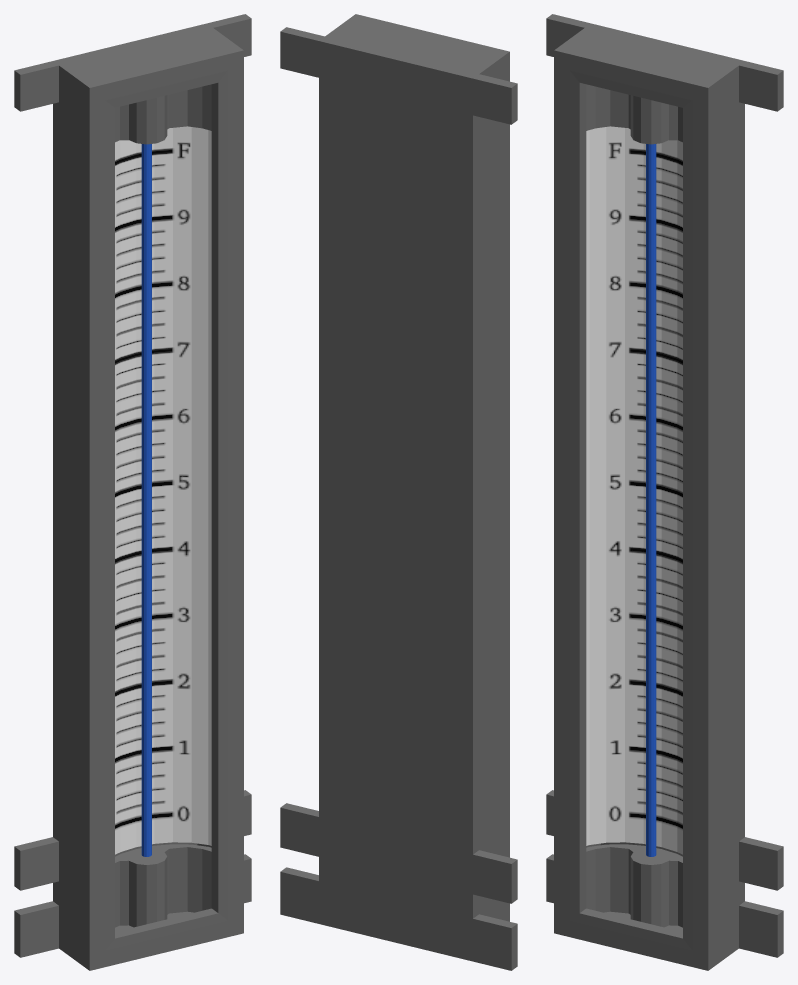
Rendered from column_gauge.glb.
3 views of the same model, side by side, from view 1: azimuth 30°, elevation 25°; view 2: azimuth 150°, elevation 25°; view 3: azimuth 330°, elevation 25° (orthographic).
Visible parts, largest first — view 1: Cube, Scale, Liquid, Circle.001, Circle.002; view 2: Cube; view 3: Cube, Scale, Liquid, Circle.001, Circle.002.
Boxes of the visible parts, x1,y1,x2,y2 form: Cube: [14, 14, 251, 970]; Scale: [115, 126, 211, 854]; Liquid: [141, 144, 151, 856]; Circle.001: [115, 844, 211, 927]; Circle.002: [115, 84, 211, 144]; Cube: [280, 14, 517, 970]; Cube: [546, 14, 783, 970]; Scale: [586, 126, 682, 854]; Liquid: [646, 144, 656, 856]; Circle.001: [586, 844, 682, 927]; Circle.002: [586, 84, 682, 144].
Size of the model in its own units: 0.1644 by 0.6001 by 0.0454.
Materials: 3 (2 with a texture image).
